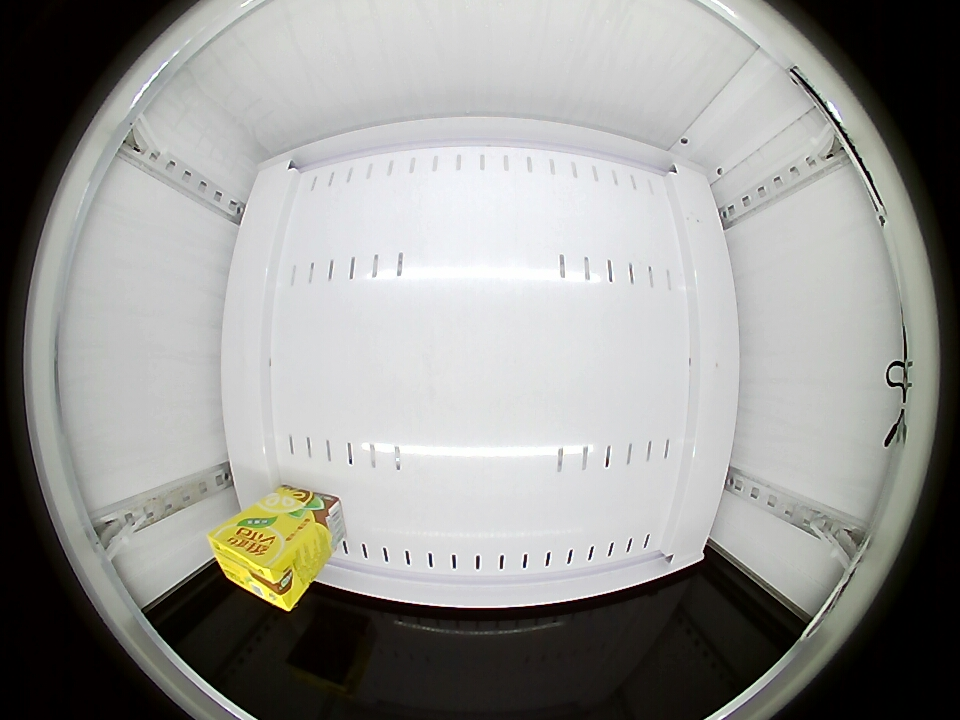weitaningmeng: (208, 518, 308, 611)
